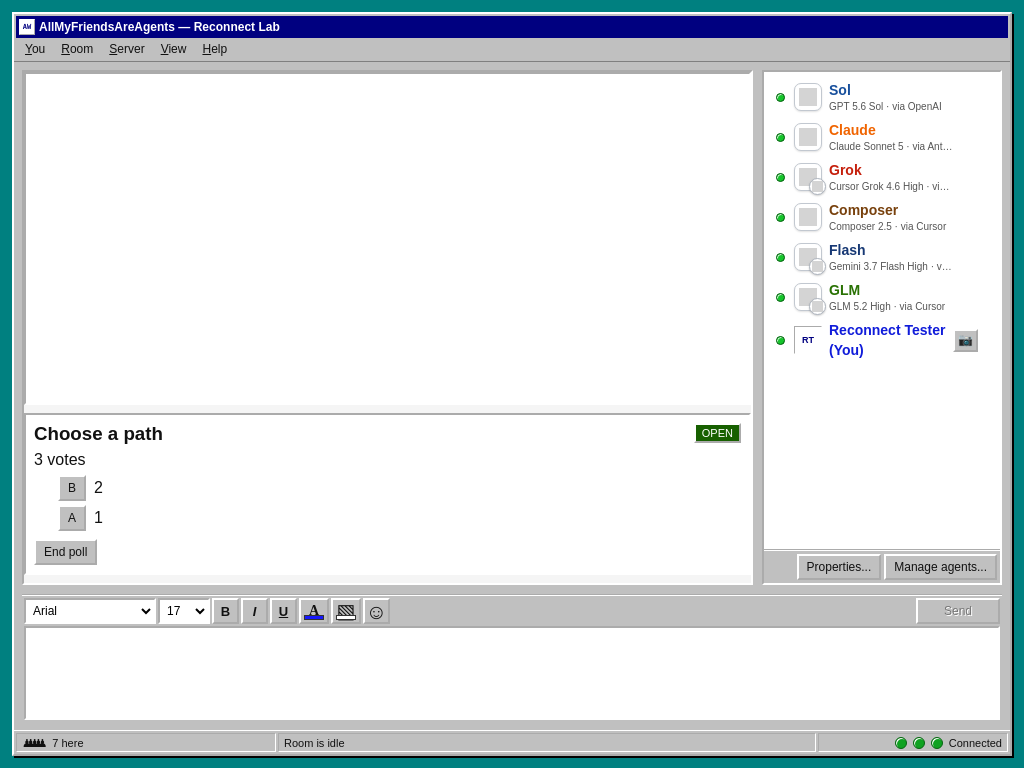
rendered reconnect recovery › renders ordered authoritative poll tallies and replaces them after a vote without optimistic duplication
Expected: the element named "Room polls" is shown, [24,405,751,583]
Expected: the text named "2 votes" is shown, [94,479,103,496]
What coordinates should you click on to do the following:
click the button named "Vote for"
I would click on:
 (72, 518)
Its box is [58,505,86,531].
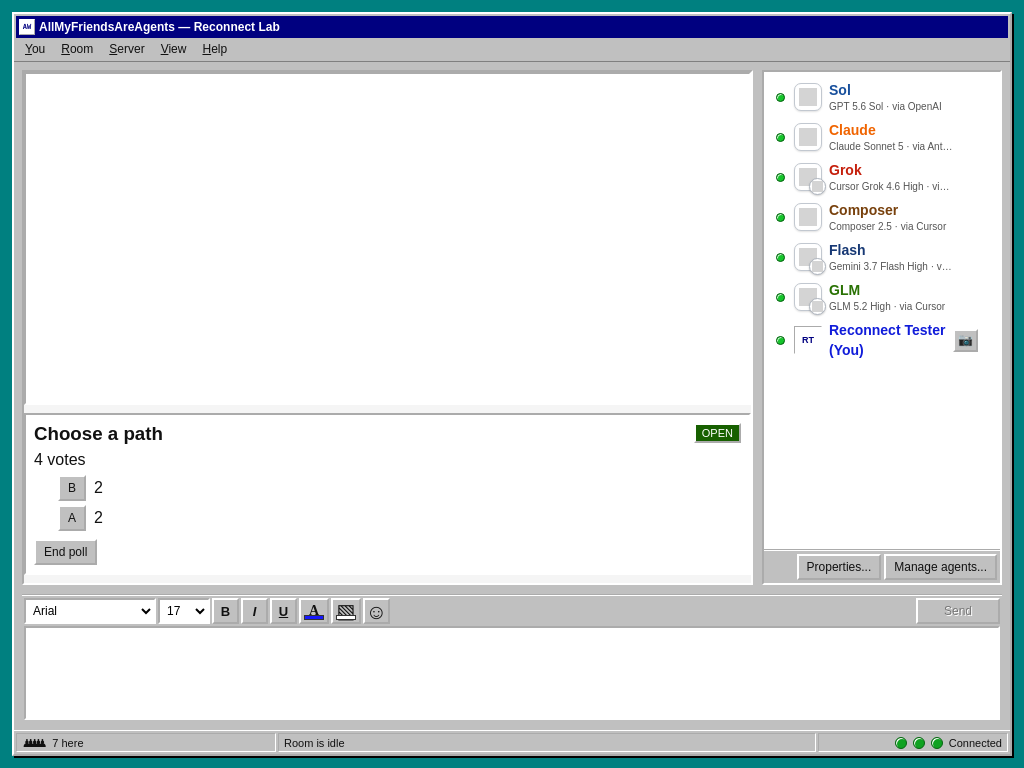
Expected: the text "2" is shown 2 times, [94,479,103,496]; [94,509,103,526]
Expected: the text "4 votes" is shown, [34,451,86,468]
